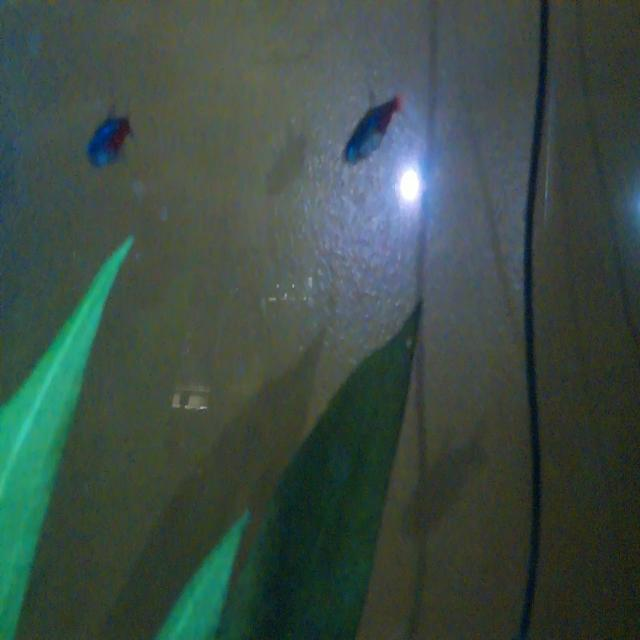fish: (327, 71, 406, 173), (84, 99, 140, 170)
